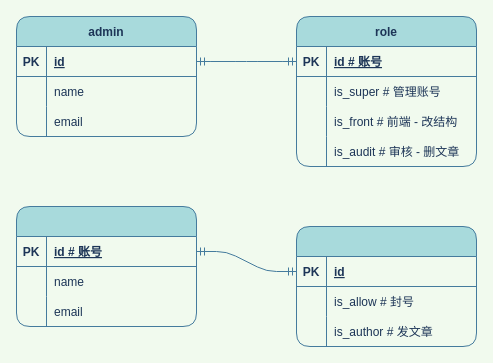
The diagram is 493 pixels wide and 363 high, and some of its shapes have lost their labels. The shapes that lost their labels are listed below. From the top down, each one's box as (x1, y1, x2, y2) in pixels, then its label:
(16, 206, 196, 326): user
(296, 226, 476, 346): permission
